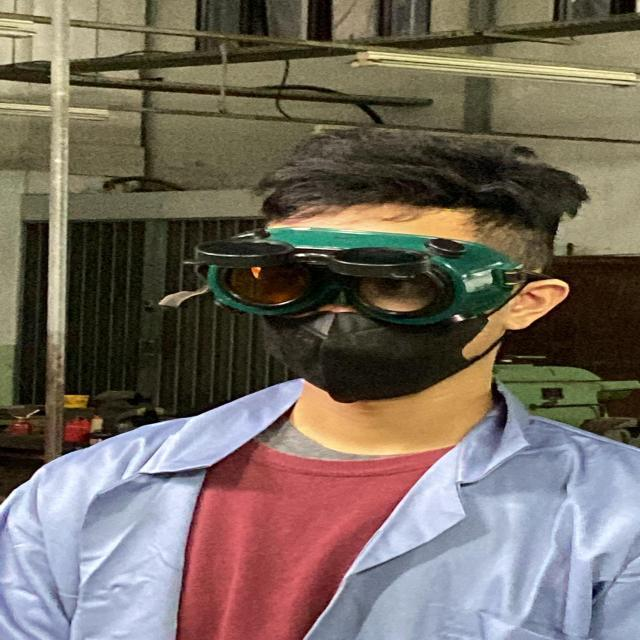glasses: (147, 222, 554, 330)
